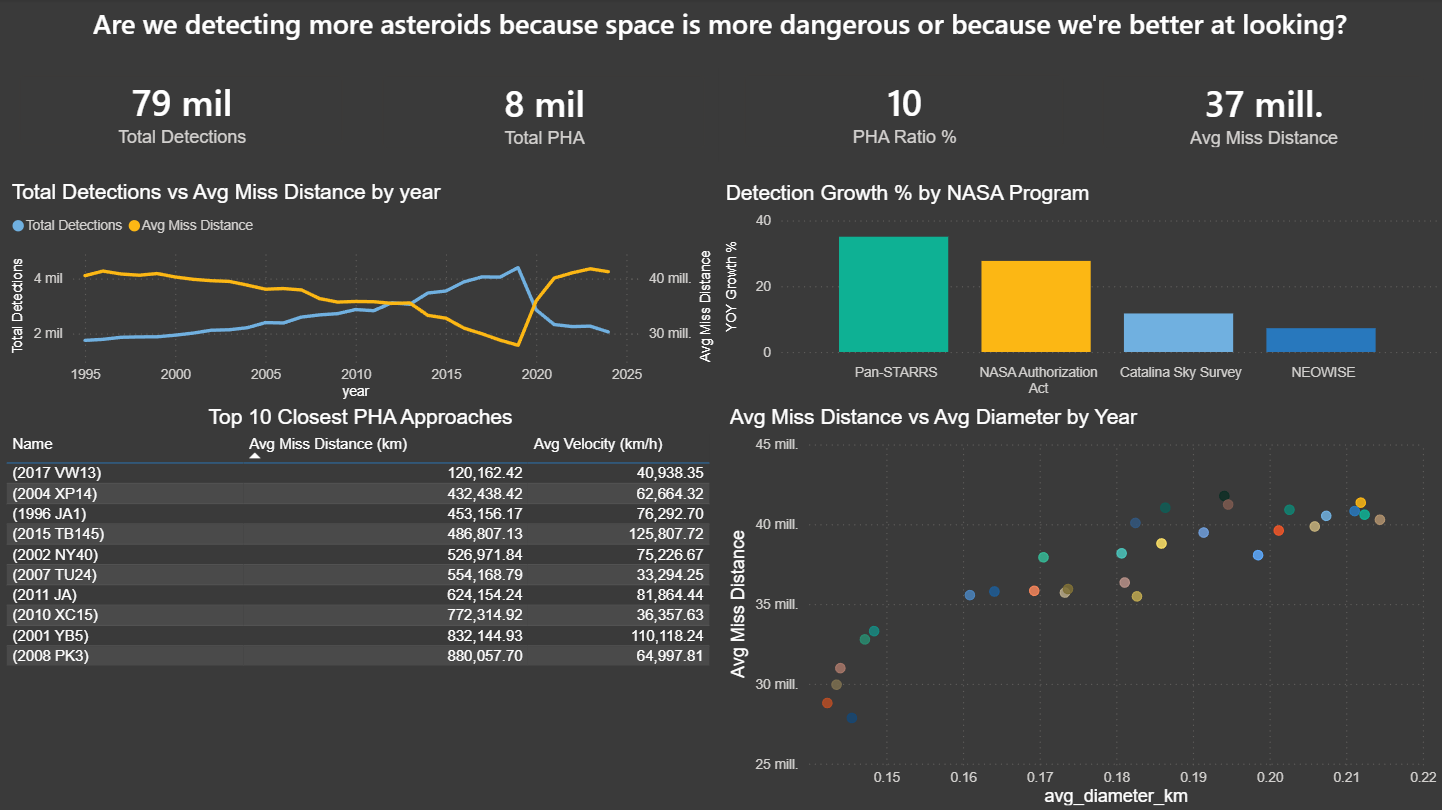

Layout of this report page (visuals, bound fields, positions):
{"tool":"powerbi","page":{"name":"Página 1","canvas":[1280,720],"ordinal":0},"visuals":[{"type":"cardVisual","fields":{"Data":["nasa_neo yearly_summary.PHA Ratio %"]},"box":[643.7,49.7,317.4,99.3],"z":0},{"type":"cardVisual","fields":{"Data":["nasa_neo yearly_summary.Avg Miss Distance"]},"box":[961.2,50.5,319.2,99.3],"z":1000},{"type":"cardVisual","fields":{"Data":["nasa_neo yearly_summary.Total Detections"]},"box":[0.9,50.5,321.9,96.7],"z":2000},{"type":"cardVisual","fields":{"Data":["nasa_neo yearly_summary.Total PHA"]},"box":[322.8,50.5,320.1,99.3],"z":3000},{"type":"lineChart","title":"Total Detections vs Avg Miss Distance by year","fields":{"Category":["nasa_neo yearly_summary.year"],"Y":["nasa_neo yearly_summary.Total Detections"],"Y2":["nasa_neo yearly_summary.Avg Miss Distance"]},"box":[6.2,160.5,633.1,199.5],"z":4000},{"type":"columnChart","title":"Detection Growth % by NASA Program","fields":{"Category":["nasa_neo program_impact.program_name"],"Y":["Avg(nasa_neo program_impact.yoy_growth_pct)"],"Series":["nasa_neo detection_programs.program_name"]},"box":[639.3,161.4,641.1,198.6],"z":5000},{"type":"scatterChart","title":"Avg Miss Distance vs Avg Diameter by Year","fields":{"X":["nasa_neo yearly_summary.avg_diameter_km"],"Y":["nasa_neo yearly_summary.Avg Miss Distance"],"Series":["nasa_neo yearly_summary.year"]},"box":[642.9,360,636.7,360],"z":6000},{"type":"tableEx","title":"Top 10 Closest PHA Approaches","fields":{"Values":["nasa_neo close_approaches.name","Avg(nasa_neo close_approaches.miss_distance_km)","Avg(nasa_neo close_approaches.velocity_kmh)"]},"box":[0.9,360,639.3,360],"z":7000},{"type":"textbox","box":[0,0,1278.6,61.2],"z":8000}]}

Visuals, with their boxes in screenshot pixels (x1, y1, x2, y2), scaled from the page's 1280x720 canvas onto the 1442x810 screenshot:
cardVisual - nasa_neo yearly_summary.PHA Ratio %: <region>725, 56, 1083, 168</region>
cardVisual - nasa_neo yearly_summary.Avg Miss Distance: <region>1083, 57, 1441, 169</region>
cardVisual - nasa_neo yearly_summary.Total Detections: <region>1, 57, 364, 166</region>
cardVisual - nasa_neo yearly_summary.Total PHA: <region>364, 57, 724, 169</region>
"Total Detections vs Avg Miss Distance by year" lineChart: <region>7, 181, 720, 405</region>
"Detection Growth % by NASA Program" columnChart: <region>720, 182, 1441, 405</region>
"Avg Miss Distance vs Avg Diameter by Year" scatterChart: <region>724, 405, 1441, 809</region>
"Top 10 Closest PHA Approaches" tableEx: <region>1, 405, 721, 809</region>
textbox: <region>0, 0, 1440, 69</region>
